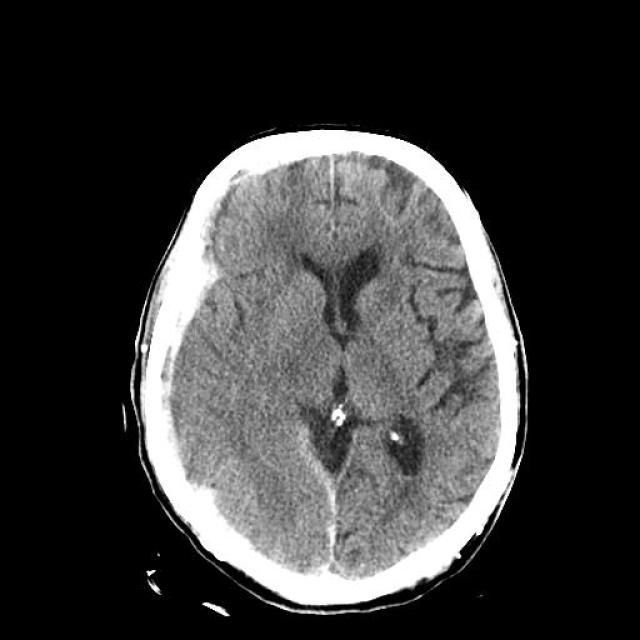Subdural: (150, 250, 240, 481), (298, 431, 370, 599)
